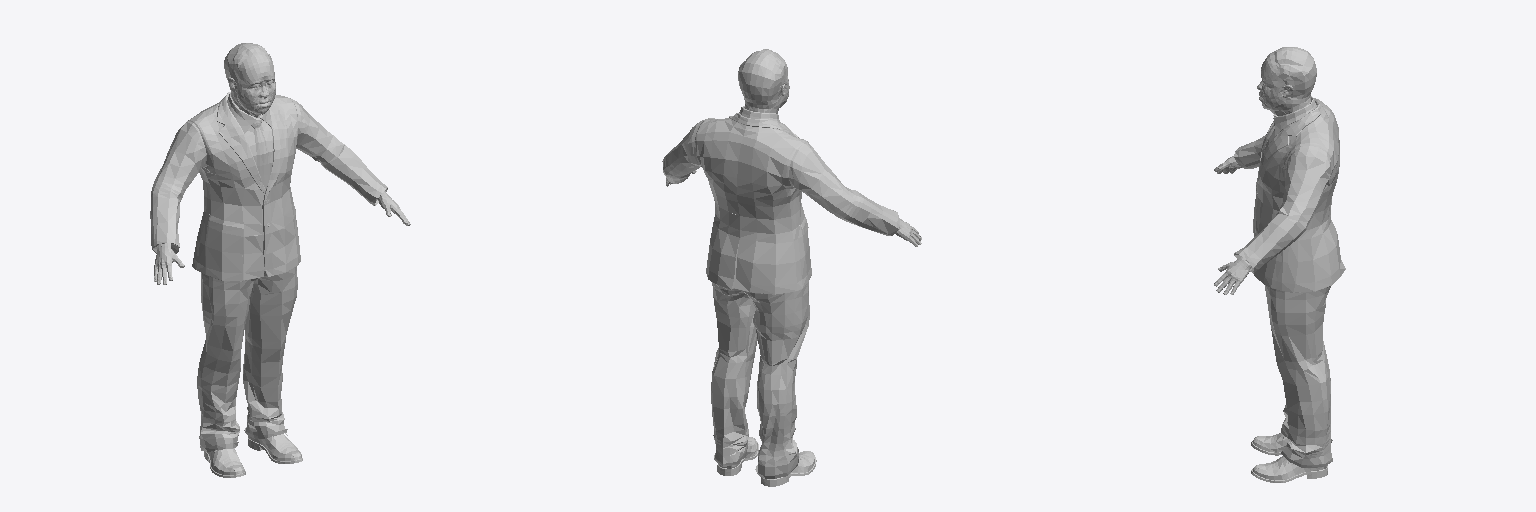
File: man_sim.obj
The picture shows the model from 3 angles: view 1: azimuth 30°, elevation 25°; view 2: azimuth 150°, elevation 25°; view 3: azimuth 270°, elevation 25°; orthographic projection.
Visible parts, largest first — view 1: man.002, man.006, man.001, man.005, man.010, man.008, man.012, man.003; view 2: man.002, man.006, man.001, man.008; view 3: man.002, man.006, man.001, man.010, man.011, man.008, man.005.
Boxes of the visible parts, <box> form: man.002: <box>150,92,387,280</box>; man.006: <box>197,266,297,451</box>; man.001: <box>224,43,275,117</box>; man.005: <box>227,93,273,175</box>; man.010: <box>248,434,302,463</box>; man.008: <box>204,448,245,477</box>; man.012: <box>154,243,184,284</box>; man.003: <box>254,128,269,188</box>; man.002: <box>662,113,899,294</box>; man.006: <box>711,282,809,478</box>; man.001: <box>738,49,789,113</box>; man.008: <box>761,451,816,486</box>; man.002: <box>1234,98,1345,292</box>; man.006: <box>1265,285,1332,467</box>; man.001: <box>1257,47,1316,115</box>; man.010: <box>1251,456,1327,482</box>; man.011: <box>1214,257,1251,294</box>; man.008: <box>1251,433,1288,455</box>; man.005: <box>1264,96,1316,150</box>.
Bounding box in the file's own units: 10.4 × 16.34 × 4.7.